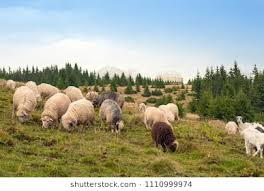sheep: (233, 115, 264, 157), (63, 97, 96, 131), (97, 97, 125, 133), (12, 85, 36, 124), (40, 92, 64, 130), (151, 121, 178, 153), (160, 102, 182, 122), (142, 105, 161, 125), (38, 83, 58, 97), (224, 120, 238, 137)
